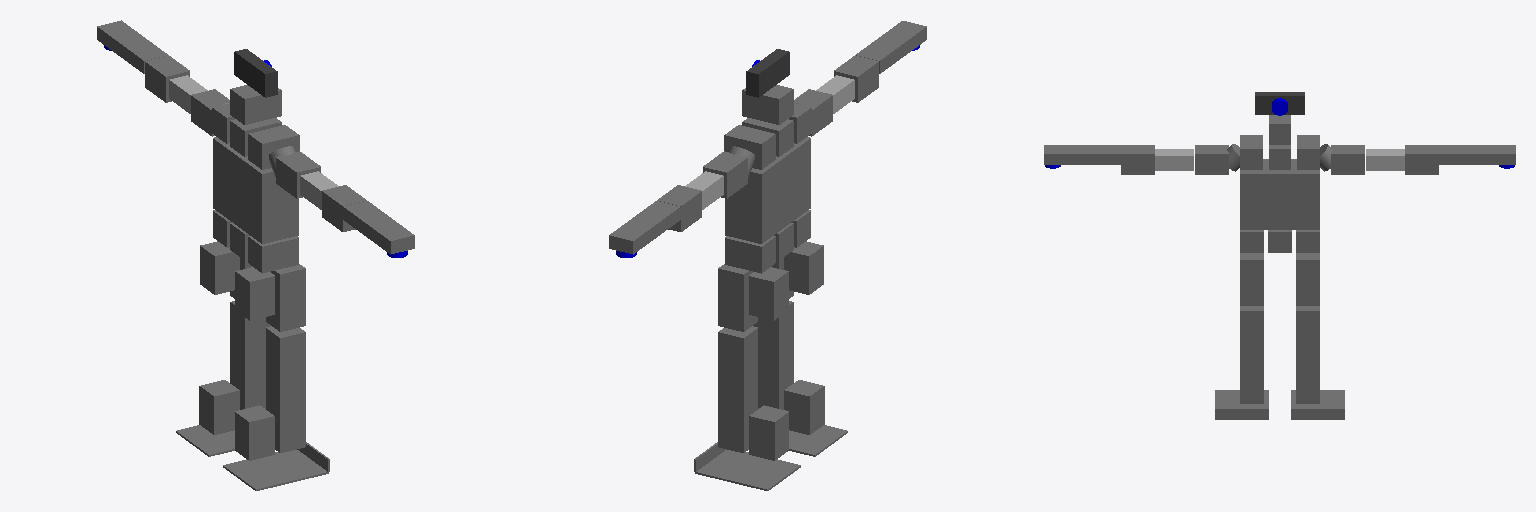
--- Facts derived from the render (not from the file) ---
The picture shows the robot from 3 angles, left to right: view 1: azimuth 30°, elevation 25°; view 2: azimuth 150°, elevation 25°; view 3: azimuth 270°, elevation 25°; orthographic projection.
Robot: eros — 40 links, 39 joints (20 continuous, 19 fixed); root link base_link; default pose: every joint at zero.
Links seen in each view (by area): view 1: trunk_link, telapak_kaki_kanan, link_betis_kanan, lengan_bawah_kanan, servo_engkle_pitch_kanan, link_betis_kiri, servo_engkle_pitch_kiri, servo_hip_pitch_kanan, lengan_bawah_kiri, servo_hip_pitch_kiri, servo_leher_y, servo_lutut_kanan (+16 smaller); view 2: trunk_link, link_betis_kiri, telapak_kaki_kiri, lengan_bawah_kiri, servo_engkle_pitch_kiri, servo_engkle_pitch_kanan, servo_hip_pitch_kiri, lengan_bawah_kanan, servo_hip_pitch_kanan, link_betis_kanan, servo_leher_y, servo_hip_yaw_kiri (+16 smaller); view 3: trunk_link, lengan_bawah_kanan, lengan_bawah_kiri, servo_siku_pitch_kanan, servo_siku_pitch_kiri, servo_bahu_pitch_kanan, servo_bahu_pitch_kiri, link_betis_kanan, link_betis_kiri, link_paha_kiri, link_paha_kanan, kepala (+16 smaller).
Link boxes in pixels (left/top/right/bottom): trunk_link: left=213, top=137, right=298, bottom=243; telapak_kaki_kanan: left=223, top=450, right=328, bottom=490; link_betis_kanan: left=266, top=352, right=305, bottom=433; lengan_bawah_kanan: left=343, top=201, right=414, bottom=254; servo_engkle_pitch_kanan: left=235, top=405, right=274, bottom=460; link_betis_kiri: left=230, top=326, right=269, bottom=407; servo_engkle_pitch_kiri: left=199, top=380, right=239, bottom=434; servo_hip_pitch_kanan: left=235, top=267, right=274, bottom=320; lengan_bawah_kiri: left=97, top=20, right=167, bottom=73; servo_hip_pitch_kiri: left=200, top=241, right=239, bottom=294; servo_leher_y: left=230, top=85, right=281, bottom=124; servo_lutut_kanan: left=266, top=326, right=305, bottom=376; trunk_link: left=725, top=137, right=810, bottom=243; link_betis_kiri: left=718, top=348, right=757, bottom=433; telapak_kaki_kiri: left=695, top=450, right=800, bottom=490; lengan_bawah_kiri: left=609, top=201, right=680, bottom=254; servo_engkle_pitch_kiri: left=749, top=405, right=788, bottom=460; servo_engkle_pitch_kanan: left=784, top=380, right=824, bottom=434; servo_hip_pitch_kiri: left=749, top=267, right=788, bottom=320; lengan_bawah_kanan: left=856, top=21, right=926, bottom=73; servo_hip_pitch_kanan: left=784, top=241, right=823, bottom=294; link_betis_kanan: left=758, top=321, right=793, bottom=407; servo_leher_y: left=742, top=85, right=793, bottom=124; servo_hip_yaw_kiri: left=725, top=236, right=775, bottom=273; trunk_link: left=1240, top=159, right=1319, bottom=229; lengan_bawah_kanan: left=1044, top=145, right=1120, bottom=164; lengan_bawah_kiri: left=1439, top=145, right=1515, bottom=164; servo_siku_pitch_kanan: left=1121, top=145, right=1154, bottom=174; servo_siku_pitch_kiri: left=1405, top=145, right=1438, bottom=174; servo_bahu_pitch_kanan: left=1195, top=145, right=1228, bottom=174; servo_bahu_pitch_kiri: left=1331, top=145, right=1364, bottom=174; link_betis_kanan: left=1240, top=342, right=1263, bottom=387; link_betis_kiri: left=1296, top=342, right=1319, bottom=387; link_paha_kiri: left=1296, top=265, right=1319, bottom=305; link_paha_kanan: left=1240, top=265, right=1263, bottom=305; kepala: left=1255, top=92, right=1304, bottom=114.
Size in the robot's own frame: 0.1215 by 0.836 by 0.614 metres.
Geometry: primitives only (box / cylinder / sphere), no mesh files.

The robot description file, URDF, robot "eros":
<?xml version="1.0"?>
    <robot name="eros">
      <link name="base_link">
        <visual>
	  <origin xyz="0 0 0" rpy="0 0 -1.57079632679" />
          <geometry>
            <box size="0.042 0.061 0.042"/>
          </geometry>
          <material name="silver">
            <color rgba="0.5 0.5 0.5 1"/>
          </material>
        </visual>
        <collision>
	    <origin xyz="0 0 0" rpy="0 0 -1.57079632679" />
            <geometry>
              <box size="0.042 0.061 0.042"/>
            </geometry>
        </collision>
        <inertial>
        	<mass value="1"/>
        	<inertia ixx="1.0" ixy="0.0" ixz="0.0" iyy="1.0" iyz="0.0" izz="1.0"/>
        </inertial>
      </link>

    <link name="trunk_link">
      <visual>
        <geometry>
          <box size="0.142 0.061 0.11"/>
        </geometry>
        <origin rpy="0 0 0" xyz="0 0 0.0"/>
        <material name="silver">
          <color rgba="0.5 0.5 0.5 1"/>
        </material>
      </visual>
      <collision>
        <geometry>
          <box size="0.142 0.042 0.11"/>
        </geometry>
        <origin rpy="0 0 0" xyz="0 0 0.031"/>
      </collision>
      <inertial>
          <mass value="1"/>
          <inertia ixx="1.0" ixy="0.0" ixz="0.0" iyy="1.0" iyz="0.0" izz="1.0"/>
      </inertial>
    </link>

    <link name="leher">
      <visual>
        <geometry>
          <box size="0.0402 0.061 0.041"/>
        </geometry>
        <origin rpy="0 0 0" xyz="0 0 0"/>
        <material name="silver">
          <color rgba="0.5 0.5 0.5 1"/>
        </material>
      </visual>
      <collision>
          <geometry>
            <box size="0.0402 0.061 0.041"/>
          </geometry>
          <origin rpy="0 0 0" xyz="0 0 0"/>
      </collision>
      <inertial>
          <mass value="0.126"/>
          <inertia ixx="1.0" ixy="0.0" ixz="0.0" iyy="1.0" iyz="0.0" izz="1.0"/>
      </inertial>
    </link>

    <!-- Leher - Kepala -->

    <link name="servo_leher_y">
    <visual>
      <geometry>
        <box size="0.0402 0.061 0.041"/>
      </geometry>
      <origin rpy="0 0 0" xyz="0 0 0"/>
      <material name="silver">
        <color rgba="0.5 0.5 0.5 1"/>
      </material>
    </visual>
    <collision>
      <geometry>
        <box size="0.0402 0.061 0.041"/>
      </geometry>
      <origin rpy="0 0 0" xyz="0 0 0"/>
    </collision>
    <inertial>
        <mass value="0.126"/>
        <inertia ixx="1.0" ixy="0.0" ixz="0.0" iyy="1.0" iyz="0.0" izz="1.0"/>
    </inertial>
    </link>

    <link name="kepala">
    <visual>
      <geometry>
        <box size="0.088 0.020 0.037"/>
      </geometry>
      <origin rpy="0 0 0" xyz="0 0 0.046"/>
      <material name="black">
        <color rgba="0.3 0.3 0.3 1"/>
      </material>
    </visual>
    <collision>
      <geometry>
        <box size="0.088 0.020 0.037"/>
      </geometry>
      <origin rpy="0 0 0" xyz="0 0 0.046"/>
    </collision>
    <inertial>
        <mass value="0.126"/>
        <inertia ixx="1.0" ixy="0.0" ixz="0.0" iyy="1.0" iyz="0.0" izz="1.0"/>
    </inertial>
    </link>

    <link name="camera_optical">
    <visual>
      <geometry>
        <cylinder length="0.02" radius="0.015"/>
      </geometry>
      <origin rpy="0 0 0" xyz="0 0 0.01"/>
      <material name="blue">
        <color rgba="0 0 1 1"/>
      </material>
    </visual>
    <collision>
      <geometry>
        <cylinder length="0.01" radius="0.025"/>
      </geometry>
      <origin rpy="0 0 0" xyz="0 0 0"/>
    </collision>
    <inertial>
        <mass value="0.126"/>
        <inertia ixx="1.0" ixy="0.0" ixz="0.0" iyy="1.0" iyz="0.0" izz="1.0"/>
    </inertial>
    </link>

    <!-- Leher - Kepala End -->

    <!-- Tangan Kanan -->

    <link name="servo_bahu_roll_kanan">
    <visual>
      <geometry>
        <box size="0.0402 0.061 0.041"/>
      </geometry>
      <origin rpy="0 0 0" xyz="0 0 0"/>
      <material name="silver">
        <color rgba="0.5 0.5 0.5 1"/>
      </material>
    </visual>
    <collision>
      <geometry>
        <box size="0.0402 0.061 0.041"/>
      </geometry>
      <origin rpy="0 0 0" xyz="0 0 0"/>
    </collision>
    <inertial>
        <mass value="0.126"/>
        <inertia ixx="1.0" ixy="0.0" ixz="0.0" iyy="1.0" iyz="0.0" izz="1.0"/>
    </inertial>
    </link>

    <link name="link_servo_bahu_kanan">
    <visual>
      <geometry>
        <cylinder length="0.03" radius="0.02"/>
      </geometry>
      <origin rpy="-0.758 0 1.57" xyz="0.0 0 -0.01"/>
      <material name="silver">
        <color rgba="0.5 0.5 0.5 1"/>
      </material>
    </visual>
    <collision>
      <geometry>
        <cylinder length="0.03" radius="0.015"/>
      </geometry>
      <origin rpy="0 0 0" xyz="0 0 0"/>
    </collision>
    <inertial>
        <mass value="0.126"/>
        <inertia ixx="1.0" ixy="0.0" ixz="0.0" iyy="1.0" iyz="0.0" izz="1.0"/>
    </inertial>
    </link>

    <link name="servo_bahu_pitch_kanan">
    <visual>
      <geometry>
        <box size="0.0402 0.061 0.041"/>
      </geometry>
      <origin rpy="0 0 1.57" xyz="0.03 0 0"/>
      <material name="silver">
        <color rgba="0.5 0.5 0.5 1"/>
      </material>
    </visual>
    <collision>
      <geometry>
        <box size="0.0402 0.061 0.041"/>
      </geometry>
      <origin rpy="0 0 0" xyz="0 0 0"/>
    </collision>
    <inertial>
        <mass value="0.126"/>
        <inertia ixx="1.0" ixy="0.0" ixz="0.0" iyy="1.0" iyz="0.0" izz="1.0"/>
    </inertial>
    </link>

    <link name="link_siku_kanan">
    <visual>
      <geometry>
        <box size="0.030 0.07 0.030"/>
      </geometry>
      <origin rpy="0 0 1.57" xyz="0.035 0 0"/>
      <material name="silver">
        <color rgba="0.7 0.7 0.7 1"/>
      </material>
    </visual>
    <collision>
      <geometry>
        <box size="0.0402 0.061 0.041"/>
      </geometry>
      <origin rpy="0 0 0" xyz="0 0 0"/>
    </collision>
    <inertial>
        <mass value="0.126"/>
        <inertia ixx="1.0" ixy="0.0" ixz="0.0" iyy="1.0" iyz="0.0" izz="1.0"/>
    </inertial>
    </link>

    <link name="servo_siku_pitch_kanan">
    <visual>
      <geometry>
        <box size="0.0402 0.061 0.041"/>
      </geometry>
      <origin rpy="0 0 1.57" xyz="0.03 0 0"/>
      <material name="silver">
        <color rgba="0.5 0.5 0.5 1"/>
      </material>
    </visual>
    <collision>
      <geometry>
        <box size="0.0402 0.061 0.041"/>
      </geometry>
      <origin rpy="0 0 1.57" xyz="0.0 0 0"/>
    </collision>
    <inertial>
        <mass value="0.126"/>
        <inertia ixx="1.0" ixy="0.0" ixz="0.0" iyy="1.0" iyz="0.0" izz="1.0"/>
    </inertial>
    </link>

    <link name="lengan_bawah_kanan">
    <visual>
      <geometry>
        <box size="0.0402 0.135 0.021"/>
      </geometry>
      <origin rpy="0 0 1.57" xyz="0.0675 0 0.01"/>
      <material name="silver">
        <color rgba="0.5 0.5 0.5 1"/>
      </material>
    </visual>
    <collision>
      <geometry>
        <box size="0.0402 0.135 0.041"/>
      </geometry>
      <origin rpy="0 0 1.57" xyz="0.0 0 0"/>
    </collision>
    <inertial>
        <mass value="0.126"/>
        <inertia ixx="1.0" ixy="0.0" ixz="0.0" iyy="1.0" iyz="0.0" izz="1.0"/>
    </inertial>
    </link>

    <link name="ujung_tangan_kanan">
    <visual>
      <geometry>
        <cylinder length="0.02" radius="0.015"/>
      </geometry>
      <origin rpy="0 0 0" xyz="0 0 0"/>
      <material name="blue">
        <color rgba="0 0 1 1"/>
      </material>
    </visual>
    <collision>
      <geometry>
        <cylinder length="0.01" radius="0.025"/>
      </geometry>
      <origin rpy="0 0 0" xyz="0 0 0"/>
    </collision>
    <inertial>
        <mass value="0.126"/>
        <inertia ixx="1.0" ixy="0.0" ixz="0.0" iyy="1.0" iyz="0.0" izz="1.0"/>
    </inertial>
    </link>

    <!-- Tangan Kanan End -->

    <!-- Tangan Kiri -->

    <link name="servo_bahu_roll_kiri">
    <visual>
      <geometry>
        <box size="0.0402 0.061 0.041"/>
      </geometry>
      <origin rpy="0 0 0" xyz="0 0 0"/>
      <material name="silver">
        <color rgba="0.5 0.5 0.5 1"/>
      </material>
    </visual>
    <collision>
      <geometry>
        <box size="0.0402 0.061 0.041"/>
      </geometry>
      <origin rpy="0 0 0" xyz="0 0 0"/>
    </collision>
    <inertial>
        <mass value="0.126"/>
        <inertia ixx="1.0" ixy="0.0" ixz="0.0" iyy="1.0" iyz="0.0" izz="1.0"/>
    </inertial>
    </link>

    <link name="link_servo_bahu_kiri">
    <visual>
      <geometry>
        <cylinder length="0.03" radius="0.02"/>
      </geometry>
      <origin rpy="0.758 0 1.57" xyz="0.0 0 -0.01"/>
      <material name="silver">
        <color rgba="0.5 0.5 0.5 1"/>
      </material>
    </visual>
    <collision>
      <geometry>
        <cylinder length="0.03" radius="0.015"/>
      </geometry>
      <origin rpy="0 0 0" xyz="0 0 0"/>
    </collision>
    <inertial>
        <mass value="0.126"/>
        <inertia ixx="1.0" ixy="0.0" ixz="0.0" iyy="1.0" iyz="0.0" izz="1.0"/>
    </inertial>
    </link>

    <link name="servo_bahu_pitch_kiri">
    <visual>
      <geometry>
        <box size="0.0402 0.061 0.041"/>
      </geometry>
      <origin rpy="0 0 -1.57" xyz="-0.03 0 0"/>
      <material name="silver">
        <color rgba="0.5 0.5 0.5 1"/>
      </material>
    </visual>
    <collision>
      <geometry>
        <box size="0.0402 0.061 0.041"/>
      </geometry>
      <origin rpy="0 0 0" xyz="0 0 0"/>
    </collision>
    <inertial>
        <mass value="0.126"/>
        <inertia ixx="1.0" ixy="0.0" ixz="0.0" iyy="1.0" iyz="0.0" izz="1.0"/>
    </inertial>
    </link>

    <link name="link_siku_kiri">
    <visual>
      <geometry>
        <box size="0.030 0.07 0.030"/>
      </geometry>
      <origin rpy="0 0 -1.57" xyz="-0.035 0 0"/>
      <material name="silver">
        <color rgba="0.7 0.7 0.7 1"/>
      </material>
    </visual>
    <collision>
      <geometry>
        <box size="0.030 0.07 0.030"/>
      </geometry>
      <origin rpy="0 0 -1.57" xyz="-0.035 0 0"/>
    </collision>
    <inertial>
        <mass value="0.126"/>
        <inertia ixx="1.0" ixy="0.0" ixz="0.0" iyy="1.0" iyz="0.0" izz="1.0"/>
    </inertial>
    </link>

    <link name="servo_siku_pitch_kiri">
    <visual>
      <geometry>
        <box size="0.0402 0.061 0.041"/>
      </geometry>
      <origin rpy="0 0 -1.57" xyz="-0.03 0 0"/>
      <material name="silver">
        <color rgba="0.5 0.5 0.5 1"/>
      </material>
    </visual>
    <collision>
      <geometry>
        <box size="0.0402 0.061 0.041"/>
      </geometry>
      <origin rpy="0 0 -1.57" xyz="0.0 0 0"/>
    </collision>
    <inertial>
        <mass value="0.126"/>
        <inertia ixx="1.0" ixy="0.0" ixz="0.0" iyy="1.0" iyz="0.0" izz="1.0"/>
    </inertial>
    </link>

    <link name="lengan_bawah_kiri">
    <visual>
      <geometry>
        <box size="0.0402 0.135 0.021"/>
      </geometry>
      <origin rpy="0 0 1.57" xyz="-0.0675 0 0.01"/>
      <material name="silver">
        <color rgba="0.5 0.5 0.5 1"/>
      </material>
    </visual>
    <collision>
      <geometry>
        <box size="0.0402 0.135 0.041"/>
      </geometry>
      <origin rpy="0 0 1.57" xyz="-0.0675 0 0.01"/>
    </collision>
    <inertial>
        <mass value="0.126"/>
        <inertia ixx="1.0" ixy="0.0" ixz="0.0" iyy="1.0" iyz="0.0" izz="1.0"/>
    </inertial>
    </link>

    <link name="ujung_tangan_kiri">
    <visual>
      <geometry>
        <cylinder length="0.02" radius="0.015"/>
      </geometry>
      <origin rpy="0 0 0" xyz="0 0 0"/>
      <material name="blue">
        <color rgba="0 0 1 1"/>
      </material>
    </visual>
    <collision>
      <geometry>
        <cylinder length="0.01" radius="0.025"/>
      </geometry>
      <origin rpy="0 0 0" xyz="0 0 0"/>
    </collision>
    <inertial>
        <mass value="0.126"/>
        <inertia ixx="1.0" ixy="0.0" ixz="0.0" iyy="1.0" iyz="0.0" izz="1.0"/>
    </inertial>
    </link>


    <!-- Tangan Kiri End -->

    <joint name="leher_to_base" type="fixed">
        <parent link="base_link"/>
        <child link="leher"/>
        <origin xyz="0 0 0.162" rpy="0 0 -1.57079632679"/>
        <axis xyz="0 0 1" />
    </joint>

    <joint name="perut_to_base" type="fixed">
        <parent link="base_link"/>
        <child link="trunk_link"/>
        <origin xyz="0 0 0.080" rpy="0 0 -1.57079632679"/>
        <axis xyz="0 0 1" />
    </joint>


    <!-- Kaki Kanan -->

    <link name="servo_hip_yaw_kanan">
      <visual>
        <geometry>
          <box size="0.042 0.061 0.042"/>
        </geometry>
        <origin rpy="0 0 0" xyz="0 0 0"/>
        <material name="silver">
          <color rgba="0.5 0.5 0.5 1"/>
        </material>
      </visual>
      <collision>
        <geometry>
          <box size="0.042 0.042 0.042"/>
        </geometry>
        <origin rpy="0 0 0" xyz="0 0 0"/>
      </collision>
      <inertial>
          <mass value="1"/>
          <inertia ixx="1.0" ixy="0.0" ixz="0.0" iyy="1.0" iyz="0.0" izz="1.0"/>
      </inertial>
    </link>

    <link name="servo_hip_pitch_kanan">
      <visual>
        <geometry>
          <box size="0.042 0.042 0.061"/>
        </geometry>
        <origin rpy="0 0 0" xyz="0 -0.03 0"/>
        <material name="silver">
          <color rgba="0.5 0.5 0.5 1"/>
        </material>
      </visual>
      <collision>
        <geometry>
          <box size="0.042 0.042 0.042"/>
        </geometry>
        <origin rpy="0 0 0" xyz="0 0 0"/>
      </collision>
      <inertial>
          <mass value="1"/>
          <inertia ixx="1.0" ixy="0.0" ixz="0.0" iyy="1.0" iyz="0.0" izz="1.0"/>
      </inertial>
    </link>

    <link name="servo_hip_roll_kanan">
      <visual>
        <geometry>
          <box size="0.042 0.042 0.061"/>
        </geometry>
        <origin rpy="0 0 0" xyz="0 0 0"/>
        <material name="silver">
          <color rgba="0.5 0.5 0.5 1"/>
        </material>
      </visual>
      <collision>
        <geometry>
          <box size="0.042 0.042 0.042"/>
        </geometry>
        <origin rpy="0 0 0" xyz="0 0 0"/>
      </collision>
      <inertial>
          <mass value="1"/>
          <inertia ixx="1.0" ixy="0.0" ixz="0.0" iyy="1.0" iyz="0.0" izz="1.0"/>
      </inertial>
    </link>

    <link name="link_paha_kanan">
      <visual>
        <geometry>
          <box size="0.042 0.042 0.08"/>
        </geometry>
        <origin rpy="0 0 0" xyz="0 0 -0.02"/>
        <material name="silver">
          <color rgba="0.5 0.5 0.5 1"/>
        </material>
      </visual>
      <collision>
        <geometry>
          <box size="0.042 0.042 0.08"/>
        </geometry>
        <origin rpy="0 0 0" xyz="0 0 -0.03"/>
      </collision>
      <inertial>
          <mass value="1"/>
          <inertia ixx="1.0" ixy="0.0" ixz="0.0" iyy="1.0" iyz="0.0" izz="1.0"/>
      </inertial>
    </link>

    <link name="servo_lutut_kanan">
      <visual>
        <geometry>
          <box size="0.042 0.042 0.061"/>
        </geometry>
        <origin rpy="0 0 0" xyz="0 0 0"/>
        <material name="silver">
          <color rgba="0.5 0.5 0.5 1"/>
        </material>
      </visual>
      <collision>
        <geometry>
          <box size="0.042 0.042 0.042"/>
        </geometry>
        <origin rpy="0 0 0" xyz="0 0 0"/>
      </collision>
      <inertial>
          <mass value="1"/>
          <inertia ixx="1.0" ixy="0.0" ixz="0.0" iyy="1.0" iyz="0.0" izz="1.0"/>
      </inertial>
    </link>

    <link name="link_betis_kanan">
      <visual>
        <geometry>
          <box size="0.042 0.042 0.12"/>
        </geometry>
        <origin rpy="0 0 0" xyz="0 0 -0.05"/>
        <material name="silver">
          <color rgba="0.5 0.5 0.5 11"/>
        </material>
      </visual>
      <collision>
        <geometry>
          <box size="0.042 0.042 0.1"/>
        </geometry>
        <origin rpy="0 0 0" xyz="0 0 -0.03"/>
      </collision>
      <inertial>
          <mass value="1"/>
          <inertia ixx="1.0" ixy="0.0" ixz="0.0" iyy="1.0" iyz="0.0" izz="1.0"/>
      </inertial>
    </link>

    <link name="servo_engkle_roll_kanan">
      <visual>
        <geometry>
          <box size="0.042 0.042 0.061"/>
        </geometry>
        <origin rpy="0 0 0" xyz="0 0 0"/>
        <material name="silver">
          <color rgba="0.5 0.5 0.5 1"/>
        </material>
      </visual>
      <collision>
        <geometry>
          <box size="0.042 0.042 0.061"/>
        </geometry>
        <origin rpy="0 0 0" xyz="0 0 0"/>
      </collision>
      <inertial>
          <mass value="1"/>
          <inertia ixx="1.0" ixy="0.0" ixz="0.0" iyy="1.0" iyz="0.0" izz="1.0"/>
      </inertial>
    </link>

    <link name="servo_engkle_pitch_kanan">
      <visual>
        <geometry>
          <box size="0.042 0.042 0.061"/>
        </geometry>
        <origin rpy="0 0 0" xyz="0 0 0"/>
        <material name="silver">
          <color rgba="0.5 0.5 0.5 1"/>
        </material>
      </visual>
      <collision>
        <geometry>
          <box size="0.042 0.042 0.061"/>
        </geometry>
        <origin rpy="0 0 0" xyz="0 0 0"/>
      </collision>
      <inertial>
          <mass value="1"/>
          <inertia ixx="1.0" ixy="0.0" ixz="0.0" iyy="1.0" iyz="0.0" izz="1.0"/>
      </inertial>
    </link>

    <link name="telapak_kaki_kanan">
      <visual>
        <geometry>
          <box size="0.095 0.120 0.003"/>
        </geometry>
        <origin rpy="0 0 0" xyz="0.0170 0 -0.056"/>
        <material name="silver">
          <color rgba="0.5 0.5 0.5 1"/>
        </material>
      </visual>
      <collision>
        <geometry>
          <box size="0.095 0.115 0.003"/>
        </geometry>
        <origin rpy="0 0 0" xyz="0.0170 0 -0.056"/>
      </collision>
      <inertial>
          <mass value="1"/>
          <inertia ixx="1.0" ixy="0.0" ixz="0.0" iyy="1.0" iyz="0.0" izz="1.0"/>
      </inertial>
    </link>

    <link name="telapak_kaki_kanan_eof">
      <visual>
        <geometry>
          <box size="0.095 0.003 0.020"/>
        </geometry>
        <origin rpy="0 0 0" xyz="0.0170 0.06 0.01"/>
        <material name="silver">
          <color rgba="0.5 0.5 0.5 1"/>
        </material>
      </visual>
      <collision>
        <geometry>
          <box size="0.095 0.115 0.003"/>
        </geometry>
         <origin rpy="0 0 0" xyz="0.0170 0.06 0.01"/>
      </collision>
      <inertial>
          <mass value="1"/>
          <inertia ixx="1.0" ixy="0.0" ixz="0.0" iyy="1.0" iyz="0.0" izz="1.0"/>
      </inertial>
    </link>

    <!-- Kaki Kanan -->

    <!-- Kaki Kiri -->

    <link name="servo_hip_yaw_kiri">
      <visual>
        <geometry>
          <box size="0.042 0.061 0.042"/>
        </geometry>
        <origin rpy="0 0 0" xyz="0 0 0"/>
        <material name="silver">
          <color rgba="0.5 0.5 0.5 1"/>
        </material>
      </visual>
      <collision>
        <geometry>
          <box size="0.042 0.042 0.042"/>
        </geometry>
        <origin rpy="0 0 0" xyz="0 0 0"/>
      </collision>
      <inertial>
          <mass value="1"/>
          <inertia ixx="1.0" ixy="0.0" ixz="0.0" iyy="1.0" iyz="0.0" izz="1.0"/>
      </inertial>
    </link>

    <link name="servo_hip_pitch_kiri">
      <visual>
        <geometry>
          <box size="0.042 0.042 0.061"/>
        </geometry>
        <origin rpy="0 0 0" xyz="0 -0.03 0"/>
        <material name="silver">
          <color rgba="0.5 0.5 0.5 1"/>
        </material>
      </visual>
      <collision>
        <geometry>
          <box size="0.042 0.042 0.042"/>
        </geometry>
        <origin rpy="0 0 0" xyz="0 0 0"/>
      </collision>
      <inertial>
          <mass value="1"/>
          <inertia ixx="1.0" ixy="0.0" ixz="0.0" iyy="1.0" iyz="0.0" izz="1.0"/>
      </inertial>
    </link>

    <link name="servo_hip_roll_kiri">
      <visual>
        <geometry>
          <box size="0.042 0.042 0.061"/>
        </geometry>
        <origin rpy="0 0 0" xyz="0 0 0"/>
        <material name="silver">
          <color rgba="0.5 0.5 0.5 1"/>
        </material>
      </visual>
      <collision>
        <geometry>
          <box size="0.042 0.042 0.042"/>
        </geometry>
        <origin rpy="0 0 0" xyz="0 0 0"/>
      </collision>
      <inertial>
          <mass value="1"/>
          <inertia ixx="1.0" ixy="0.0" ixz="0.0" iyy="1.0" iyz="0.0" izz="1.0"/>
      </inertial>
    </link>

    <link name="link_paha_kiri">
      <visual>
        <geometry>
          <box size="0.042 0.042 0.08"/>
        </geometry>
        <origin rpy="0 0 0" xyz="0 0 -0.02"/>
        <material name="silver">
          <color rgba="0.5 0.5 0.5 1"/>
        </material>
      </visual>
      <collision>
        <geometry>
          <box size="0.042 0.042 0.08"/>
        </geometry>
        <origin rpy="0 0 0" xyz="0 0 -0.02"/>
      </collision>
      <inertial>
          <mass value="1"/>
          <inertia ixx="1.0" ixy="0.0" ixz="0.0" iyy="1.0" iyz="0.0" izz="1.0"/>
      </inertial>
    </link>

    <link name="servo_lutut_kiri">
      <visual>
        <geometry>
          <box size="0.042 0.042 0.061"/>
        </geometry>
        <origin rpy="0 0 0" xyz="0 0 0"/>
        <material name="silver">
          <color rgba="0.5 0.5 0.5 1"/>
        </material>
      </visual>
      <collision>
        <geometry>
          <box size="0.042 0.042 0.042"/>
        </geometry>
        <origin rpy="0 0 0" xyz="0 0 0"/>
      </collision>
      <inertial>
          <mass value="1"/>
          <inertia ixx="1.0" ixy="0.0" ixz="0.0" iyy="1.0" iyz="0.0" izz="1.0"/>
      </inertial>
    </link>

    <link name="link_betis_kiri">
      <visual>
        <geometry>
          <box size="0.042 0.042 0.12"/>
        </geometry>
        <origin rpy="0 0 0" xyz="0 0 -0.05"/>
        <material name="silver">
          <color rgba="0.5 0.5 0.5 11"/>
        </material>
      </visual>
      <collision>
        <geometry>
          <box size="0.042 0.042 0.12"/>
        </geometry>
        <origin rpy="0 0 0" xyz="0 0 -0.03"/>
      </collision>
      <inertial>
          <mass value="1"/>
          <inertia ixx="1.0" ixy="0.0" ixz="0.0" iyy="1.0" iyz="0.0" izz="1.0"/>
      </inertial>
    </link>

    <link name="servo_engkle_roll_kiri">
      <visual>
        <geometry>
          <box size="0.042 0.042 0.061"/>
        </geometry>
        <origin rpy="0 0 0" xyz="0 0 0"/>
        <material name="silver">
          <color rgba="0.5 0.5 0.5 1"/>
        </material>
      </visual>
      <collision>
        <geometry>
          <box size="0.042 0.042 0.061"/>
        </geometry>
        <origin rpy="0 0 0" xyz="0 0 0"/>
      </collision>
      <inertial>
          <mass value="1"/>
          <inertia ixx="1.0" ixy="0.0" ixz="0.0" iyy="1.0" iyz="0.0" izz="1.0"/>
      </inertial>
    </link>

    <link name="servo_engkle_pitch_kiri">
      <visual>
        <geometry>
          <box size="0.042 0.042 0.061"/>
        </geometry>
        <origin rpy="0 0 0" xyz="0 0 0"/>
        <material name="silver">
          <color rgba="0.5 0.5 0.5 1"/>
        </material>
      </visual>
      <collision>
        <geometry>
          <box size="0.042 0.042 0.061"/>
        </geometry>
        <origin rpy="0 0 0" xyz="0 0 0"/>
      </collision>
      <inertial>
          <mass value="1"/>
          <inertia ixx="1.0" ixy="0.0" ixz="0.0" iyy="1.0" iyz="0.0" izz="1.0"/>
      </inertial>
    </link>

    <link name="telapak_kaki_kiri">
      <visual>
        <geometry>
          <box size="0.095 0.120 0.003"/>
        </geometry>
        <origin rpy="0 0 0" xyz="-0.0170 0 -0.056"/>
        <material name="silver">
          <color rgba="0.5 0.5 0.5 1"/>
        </material>
      </visual>
      <collision>
        <geometry>
          <box size="0.095 0.115 0.003"/>
        </geometry>
        <origin rpy="0 0 0" xyz="0 0 -0.056"/>
      </collision>
      <inertial>
          <mass value="1"/>
          <inertia ixx="1.0" ixy="0.0" ixz="0.0" iyy="1.0" iyz="0.0" izz="1.0"/>
      </inertial>
    </link>

    <link name="telapak_kaki_kiri_eof">
      <visual>
        <geometry>
          <box size="0.095 0.003 0.020"/>
        </geometry>
        <origin rpy="0 0 0" xyz="-0.0170 0.06 0.01"/>
        <material name="silver">
          <color rgba="0.5 0.5 0.5 1"/>
        </material>
      </visual>
      <collision>
        <geometry>
          <box size="0.095 0.115 0.003"/>
        </geometry>
        <origin rpy="0 0 0" xyz="-0.0170 0.06 0.01"/>
      </collision>
      <inertial>
          <mass value="1"/>
          <inertia ixx="1.0" ixy="0.0" ixz="0.0" iyy="1.0" iyz="0.0" izz="1.0"/>
      </inertial>
    </link>

    <!-- Kaki Kiri -->

    <!-- Revolute -->
    <joint name="right_shoulder_pitch" type="continuous">
        <parent link="servo_bahu_roll_kanan"/>
        <child link="link_servo_bahu_kanan"/>
        <origin rpy="0 0 0" xyz="0.030 0 0"/>
        <axis xyz="1 0 0" />
        <limit effort="300" velocity="0.1" lower="-3.14" upper="3.14"/>
    </joint>

    <joint name="left_shoulder_pitch" type="continuous">
        <parent link="servo_bahu_roll_kiri"/>
        <child link="link_servo_bahu_kiri"/>
        <origin rpy="0 0 0" xyz="-0.030 0 0"/>
        <axis xyz="-1 0 0" />
        <limit effort="300" velocity="0.1" lower="-3.14" upper="3.14"/>
    </joint>

    <joint name="right_shoulder_roll" type="continuous">
        <parent link="link_servo_bahu_kanan"/>
        <child link="servo_bahu_pitch_kanan"/>
        <origin rpy="0 0 0" xyz="0.010 0 -0.015"/>
        <axis xyz="0 -1 0" />
        <limit effort="300" velocity="0.1" lower="-2" upper="2"/>
    </joint>

    <joint name="left_shoulder_roll" type="continuous">
        <parent link="link_servo_bahu_kiri"/>
        <child link="servo_bahu_pitch_kiri"/>
        <origin rpy="0 0 0" xyz="-0.010 0 -0.015"/>
        <axis xyz="0 -1 0" />
        <limit effort="300" velocity="0.1" lower="-2.0" upper="2.0"/>
    </joint>

    <joint name="right_elbow_pitch" type="continuous">
        <parent link="link_siku_kanan"/>
        <child link="servo_siku_pitch_kanan"/>
        <origin rpy="0 0 0" xyz="0.070 0 0."/>
        <axis xyz="0 0 -1" />
        <limit effort="300" velocity="0.1" lower="-1.57" upper="1.57"/>
    </joint>

    <joint name="left_elbow_pitch" type="continuous">
        <parent link="link_siku_kiri"/>
        <child link="servo_siku_pitch_kiri"/>
        <origin rpy="0 0 0" xyz="-0.070 0 0."/>
        <axis xyz="0 0 -1" />
    </joint>

    <joint name="right_hip_yaw" type="continuous">
        <parent link="servo_hip_yaw_kanan"/>
        <child link="servo_hip_pitch_kanan"/>
        <origin xyz="0 0 -0.060"/>
        <axis xyz="0 0 -1" />
        <limit effort="300" velocity="0.1" lower="-3.14" upper="3.14"/>
    </joint>

    <joint name="left_hip_yaw" type="continuous">
        <parent link="servo_hip_yaw_kiri"/>
        <child link="servo_hip_pitch_kiri"/>
        <origin xyz="0 0 -0.060"/>
        <axis xyz="0 0 -1" />
        <limit effort="300" velocity="0.1" lower="-3.14" upper="3.14"/>
    </joint>

    <joint name="right_hip_roll" type="continuous">
        <parent link="servo_hip_pitch_kanan"/>
        <child link="servo_hip_roll_kanan"/>
        <origin xyz="0 0.02 0"/>
        <axis xyz="0 -1 0" />
        <limit effort="300" velocity="0.1" lower="-3.14" upper="3.14"/>
    </joint>

    <joint name="left_hip_roll" type="continuous">
        <parent link="servo_hip_pitch_kiri"/>
        <child link="servo_hip_roll_kiri"/>
        <origin xyz="0 0.02 0"/>
        <axis xyz="0 -1 0" />
        <limit effort="300" velocity="0.1" lower="-3.14" upper="3.14"/>
    </joint>

    <joint name="right_hip_pitch" type="continuous">
        <parent link="servo_hip_roll_kanan"/>
        <child link="link_paha_kanan"/>
        <origin xyz="0 0.0 0"/>
        <axis xyz="1 0 0" />
        <limit effort="300" velocity="0.1" lower="-3.14" upper="3.14"/>
    </joint>

    <joint name="left_hip_pitch" type="continuous">
        <parent link="servo_hip_roll_kiri"/>
        <child link="link_paha_kiri"/>
        <origin xyz="0 0.0 0"/>
        <axis xyz="-1 0 0" />
        <limit effort="300" velocity="0.1" lower="-3.14" upper="3.14"/>
    </joint>

    <joint name="right_knee_pitch" type="continuous">
        <parent link="servo_lutut_kanan"/>
        <child link="link_betis_kanan"/>
        <origin xyz="0 0.0 -0.01"/>
        <axis xyz="1 0 0" />
        <limit effort="300" velocity="0.1" lower="-3.14" upper="3.14"/>
    </joint>

    <joint name="left_knee_pitch" type="continuous">
        <parent link="servo_lutut_kiri"/>
        <child link="link_betis_kiri"/>
        <origin xyz="0 0.0 -0.01"/>
        <axis xyz="-1 0 0" />
        <limit effort="300" velocity="0.1" lower="-3.14" upper="3.14"/>
    </joint>

    <joint name="right_ankle_pitch" type="continuous"> <!-- -->
        <parent link="link_betis_kanan"/>
        <child link="servo_engkle_roll_kanan"/>
        <origin xyz="0 0.0 -0.11"/>
        <axis xyz="-1 0 0" />
        <limit effort="300" velocity="0.1" lower="-3.14" upper="3.14"/>
    </joint>

    <joint name="left_ankle_pitch" type="continuous">
        <parent link="link_betis_kiri"/>
        <child link="servo_engkle_roll_kiri"/>
        <origin xyz="0 0.0 -0.11"/>
        <axis xyz="1 0 0" />
        <limit effort="300" velocity="0.1" lower="-3.14" upper="3.14"/>
    </joint>

    <joint name="right_ankle_roll" type="continuous">
        <parent link="servo_engkle_pitch_kanan"/>
        <child link="telapak_kaki_kanan"/>
        <origin xyz="0 0.025 0"/>
        <axis xyz="0 1 0" />
        <limit effort="300" velocity="0.1" lower="-3.14" upper="3.14"/>
    </joint>

    <joint name="left_ankle_roll" type="continuous">
        <parent link="servo_engkle_pitch_kiri"/>
        <child link="telapak_kaki_kiri"/>
        <origin xyz="0 0.025 0"/>
        <axis xyz="0 1 0" />
        <limit effort="300" velocity="0.1" lower="-3.14" upper="3.14"/>
    </joint>    

    <joint name="head_pitch" type="continuous">
        <parent link= "servo_leher_y"/>
        <child link="kepala"/>
        <origin rpy="0 0 0" xyz="0 0 0.0 "/>
        <axis xyz="1 0 0" />
        <limit effort="300" velocity="0.1" lower="-1.57" upper="1.57"/>
    </joint>

    <joint name="neck_yaw" type="continuous">
        <parent link="leher"/>
        <child link="servo_leher_y"/>
        <origin rpy="0 0 0" xyz="0 0 0.05 "/>
        <axis xyz="0 0 1" />
        <limit effort="300" velocity="0.1" lower="-3.14" upper="3.14"/>
    </joint>


    <!-- Tangan -->

    <joint name="leher_to_bahu_kanan" type="fixed">
        <parent link="leher"/>
        <child link="servo_bahu_roll_kanan"/>
        <origin rpy="0 0 0" xyz="0.051 0 0"/>
    </joint>

    <joint name="leher_to_bahu_kiri" type="fixed">
        <parent link="leher"/>
        <child link="servo_bahu_roll_kiri"/>
        <origin rpy="0 0 0" xyz="-0.051 0 0"/>
    </joint>

    <joint name="link_lengan_atas_kanan" type="fixed">
        <parent link="servo_bahu_pitch_kanan"/>
        <child link="link_siku_kanan"/>
        <origin rpy="0 0 0" xyz="0.061 0 0.0"/>
    </joint>

    <joint name="link_lengan_atas_kiri" type="fixed">
        <parent link="servo_bahu_pitch_kiri"/>
        <child link="link_siku_kiri"/>
        <origin rpy="0 0 0" xyz="-0.061 0 0.0"/>
    </joint>

    <joint name="link_lengan_bawah_kanan" type="fixed">
        <parent link="servo_siku_pitch_kanan"/>
        <child link="lengan_bawah_kanan"/>
        <origin rpy="0 0 0" xyz="0.061 0 0.0"/>
    </joint>

    <joint name="link_lengan_bawah_kiri" type="fixed">
        <parent link="servo_siku_pitch_kiri"/>
        <child link="lengan_bawah_kiri"/>
        <origin rpy="0 0 0" xyz="-0.061 0 0.0"/>
    </joint>

    <joint name="tangan_kanan_eof" type="fixed">
        <parent link="lengan_bawah_kanan"/>
        <child link="ujung_tangan_kanan"/>
        <origin rpy="0 0 0" xyz="0.120 0 0.0"/>
    </joint>

    <joint name="tangan_kiri_eof" type="fixed">
        <parent link="lengan_bawah_kiri"/>
        <child link="ujung_tangan_kiri"/>
        <origin rpy="0 0 0" xyz="-0.120 0 0.0"/>
    </joint>

    <!-- Tangan -->


    <!-- Kaki -->

    <joint name="base_to_hip_kanan" type="fixed">
        <parent link="base_link"/>
        <child link="servo_hip_yaw_kanan"/>
        <origin xyz="0 -0.05 0" rpy="0 0 -1.57079632679"/>
        <axis xyz="0 0 1" />
    </joint>

    <joint name="base_to_hip_kiri" type="fixed">
        <parent link="base_link"/>
        <child link="servo_hip_yaw_kiri"/>
        <origin xyz="0 0.05 0" rpy="0 0 -1.57079632679"/>
        <axis xyz="0 0 1" />
    </joint>

    <joint name="link_servo_lutut_kanan" type="fixed">
        <parent link="link_paha_kanan"/>
        <child link="servo_lutut_kanan"/>
        <origin xyz="0 0.0 -0.1 "/>
        <axis xyz="1 0 0" />
        <limit effort="300" velocity="0.1" lower="-3.14" upper="3.14"/>
    </joint>

    <joint name="link_servo_lutut_kiri" type="fixed">
        <parent link="link_paha_kiri"/>
        <child link="servo_lutut_kiri"/>
        <origin xyz="0 0.0 -0.1"/>
        <axis xyz="1 0 0" />
        <limit effort="300" velocity="0.1" lower="-3.14" upper="3.14"/>
    </joint>

    <joint name="link_servo_engkle_kanan" type="fixed">
        <parent link="servo_engkle_roll_kanan"/>
        <child link="servo_engkle_pitch_kanan"/>
        <origin xyz="0 -0.051 0"/>
        <axis xyz="1 0 0" />
        <limit effort="300" velocity="0.1" lower="-3.14" upper="3.14"/>
    </joint>

    <joint name="link_servo_engkle_kiri" type="fixed">
        <parent link="servo_engkle_roll_kiri"/>
        <child link="servo_engkle_pitch_kiri"/>
        <origin xyz="0 -0.051 0"/>
        <axis xyz="1 0 0" />
        <limit effort="300" velocity="0.1" lower="-3.14" upper="3.14"/>
    </joint>

    <joint name="kaki_kanan_eof" type="fixed">
        <parent link="telapak_kaki_kanan"/>
        <child link="telapak_kaki_kanan_eof"/>
        <origin xyz="0 0.0 -0.055"/>
        <axis xyz="0 1 0" />
        <limit effort="300" velocity="0.1" lower="-3.14" upper="3.14"/>
    </joint>

    <joint name="kaki_kiri_eof" type="fixed">
        <parent link="telapak_kaki_kiri"/>
        <child link="telapak_kaki_kiri_eof"/>
        <origin xyz="0 0.0 -0.055"/>
        <axis xyz="0 1 0" />
        <limit effort="300" velocity="0.1" lower="-3.14" upper="3.14"/>
    </joint>

    <!-- Kaki-->

    <!-- Leher - Kepala -->


    <joint name="kamera_eof" type="fixed">
        <parent link="kepala"/>
        <child link="camera_optical"/>
        <origin rpy="-1.57 1.57 0" xyz="0 0 0.046"/>

    </joint>

    <!-- Leher - Kepala End -->

    </robot>
